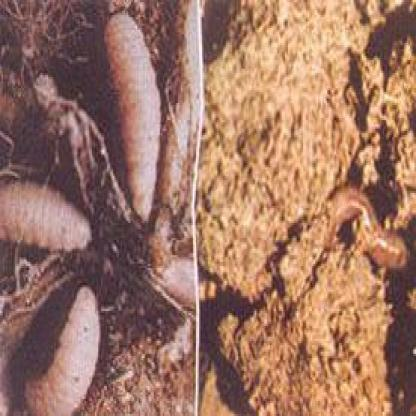whorl-maggot: (99, 13, 164, 227), (24, 284, 99, 416), (0, 177, 93, 255)
